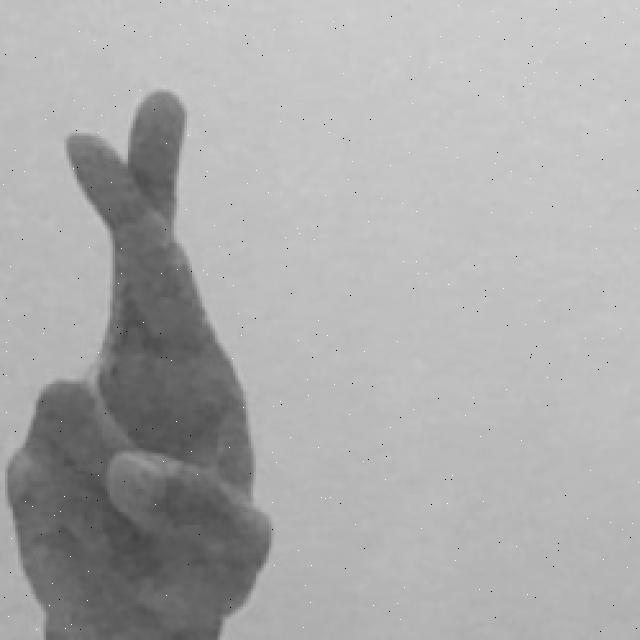R: (0, 83, 277, 640)
